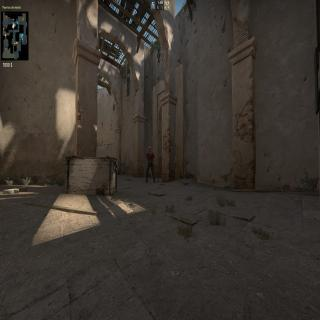T-Head: (148, 146, 152, 152)
